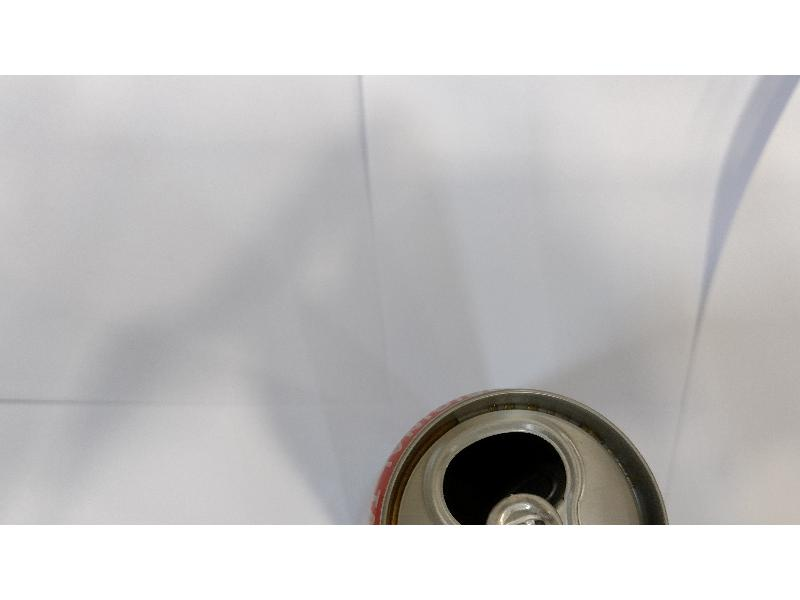can: (368, 376, 679, 525)
